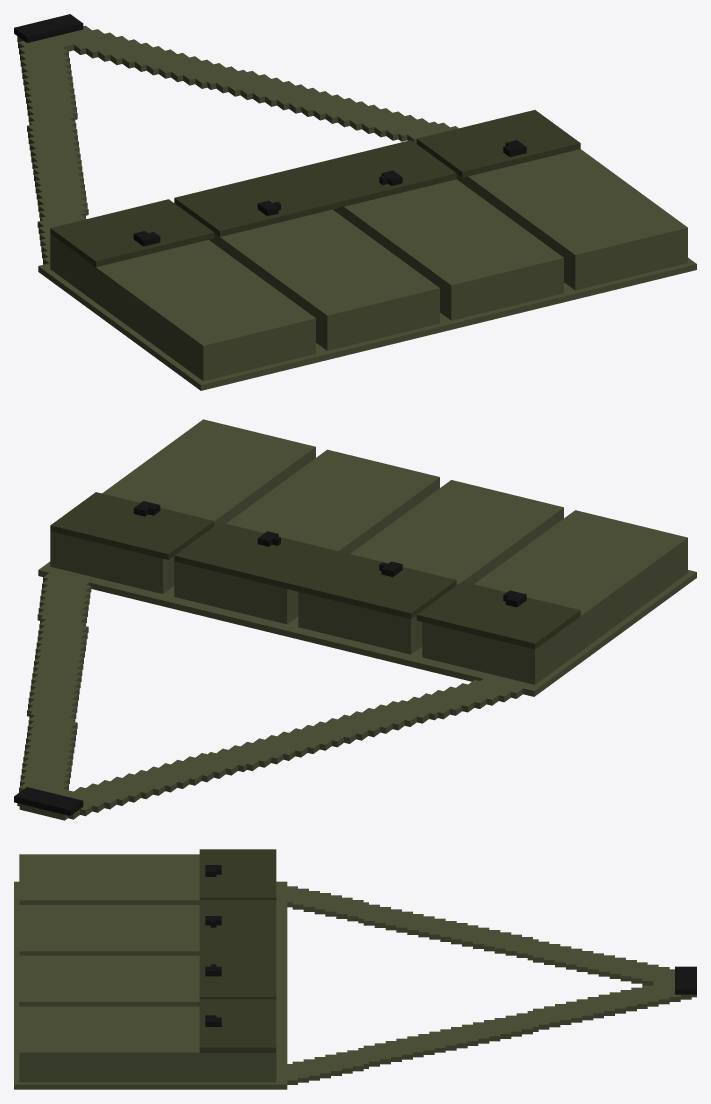
The model's file is cheap_ammo_pouch.glb.
3 views of the same model, one above another, from view 1: azimuth 30°, elevation 25°; view 2: azimuth 150°, elevation 25°; view 3: azimuth 270°, elevation 25° (orthographic). The views are drawn at different scales.
Visible parts, largest first — view 1: cheap_ammo_pouch:compound; view 2: cheap_ammo_pouch:compound; view 3: cheap_ammo_pouch:compound.
Boxes of the visible parts, x1,y1,x2,y2 form: cheap_ammo_pouch:compound: (14,14,696,390); cheap_ammo_pouch:compound: (14,419,696,820); cheap_ammo_pouch:compound: (14,849,696,1089).
Size of the model in its own units: 0.352 by 0.036 by 0.5.
